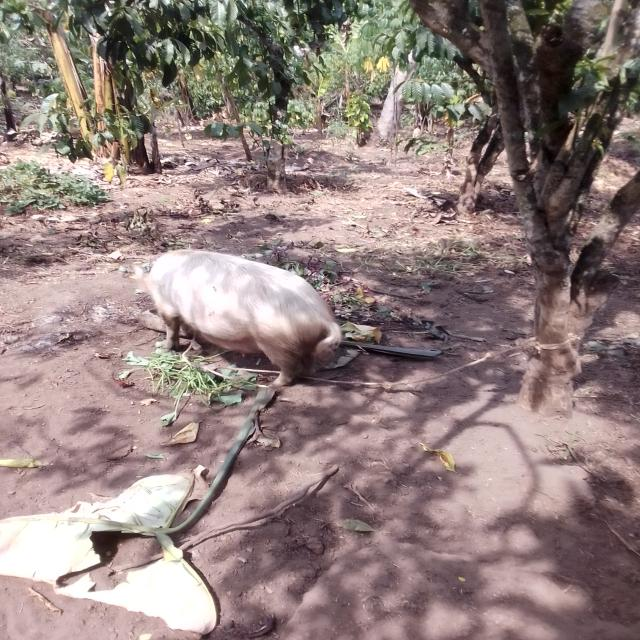pig: (116, 195, 367, 419)
